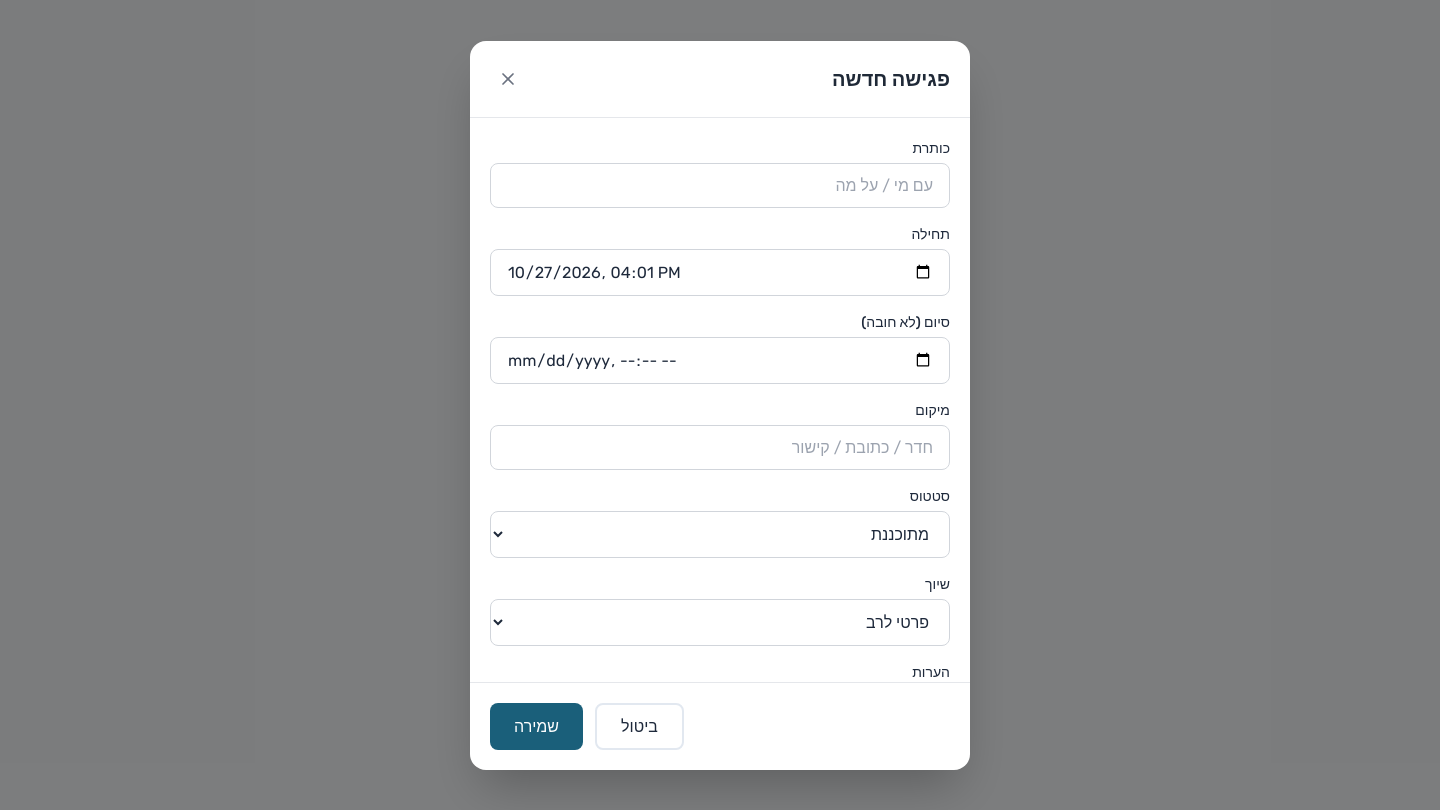
MeetingForm › blocks submit with an error when title is empty
Click the button "שמירה".
click(536, 726)  # box [490,702,583,750]
(page scrolled)
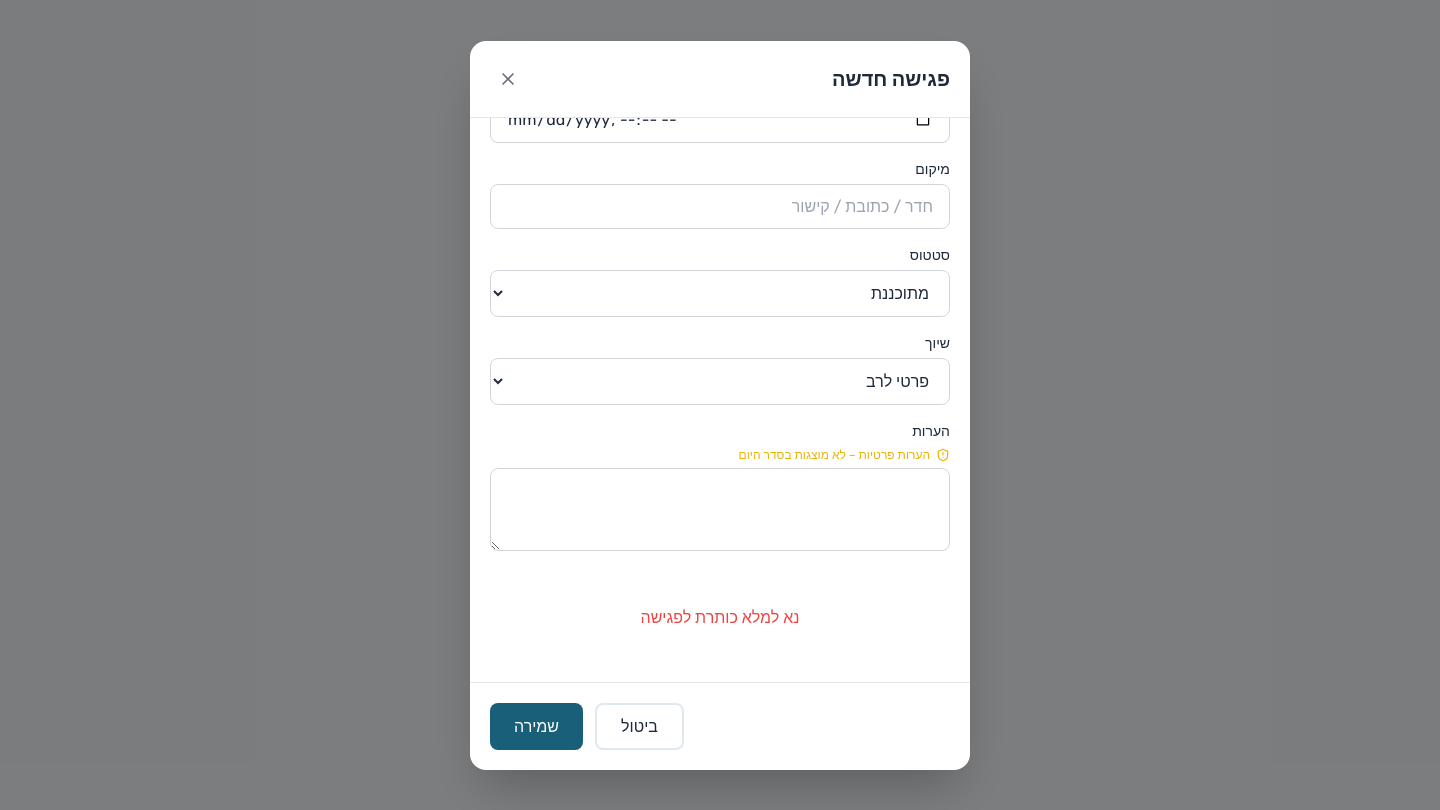
Expected: the text "נא למלא כותרת לפגישה" is shown, [640,608,800,626]
